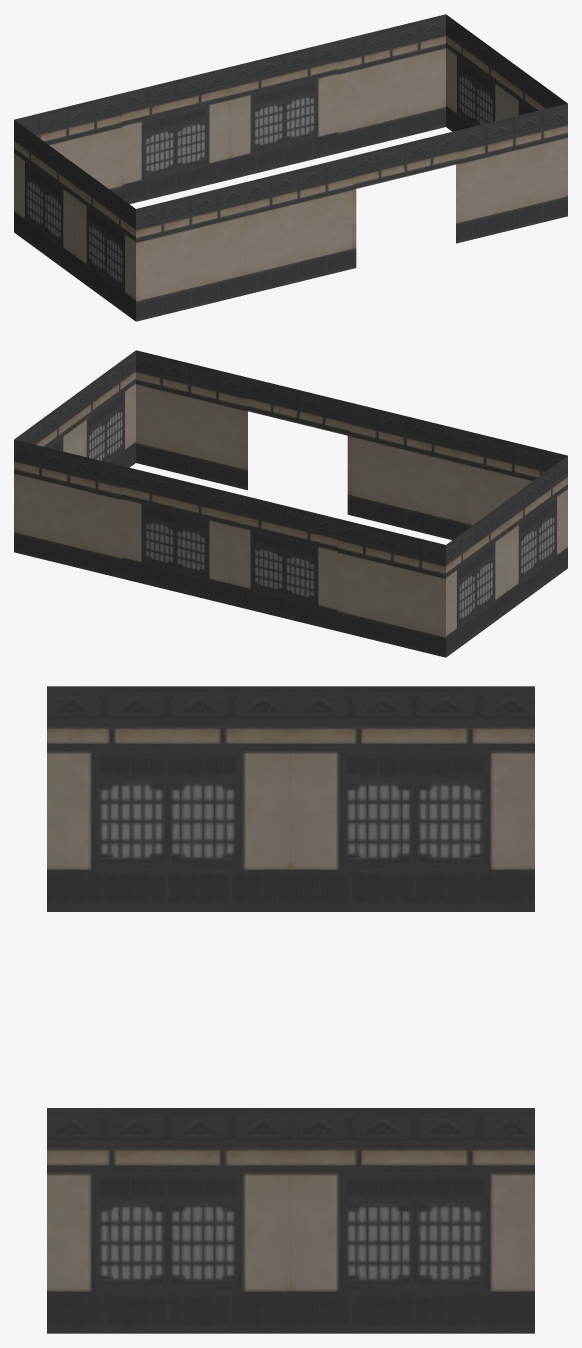
Rendered from Homeworld_Interior_Dq_Room_M_Filling_01_Vo.fbx.
3 renders of one model, top to bottom at view 1: azimuth 30°, elevation 25°; view 2: azimuth 150°, elevation 25°; view 3: azimuth 270°, elevation 25°, orthographic. The views are drawn at different scales.
Parts seen in each view (by area): view 1: Homeworld_Interior_Dq_Room_M_Filling_01_Vo; view 2: Homeworld_Interior_Dq_Room_M_Filling_01_Vo; view 3: Homeworld_Interior_Dq_Room_M_Filling_01_Vo.
Part boxes in pixels (x1,y1,x2,y2): Homeworld_Interior_Dq_Room_M_Filling_01_Vo: [14, 14, 567, 321]; Homeworld_Interior_Dq_Room_M_Filling_01_Vo: [14, 350, 567, 657]; Homeworld_Interior_Dq_Room_M_Filling_01_Vo: [47, 686, 534, 1333].
Size of the model in its own units: 19.96 by 4.98 by 9.77.
